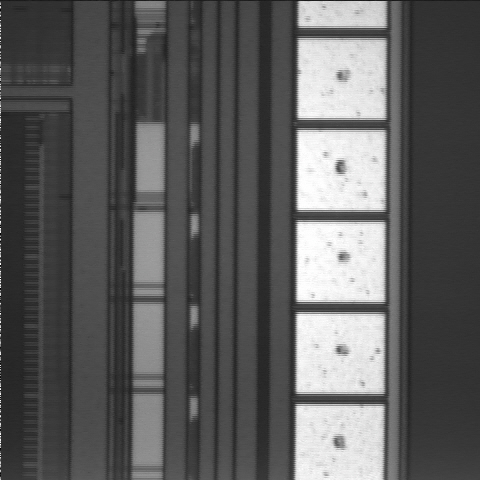pad: (298, 38, 386, 118), (297, 130, 385, 210), (297, 222, 385, 302), (296, 314, 384, 394)
